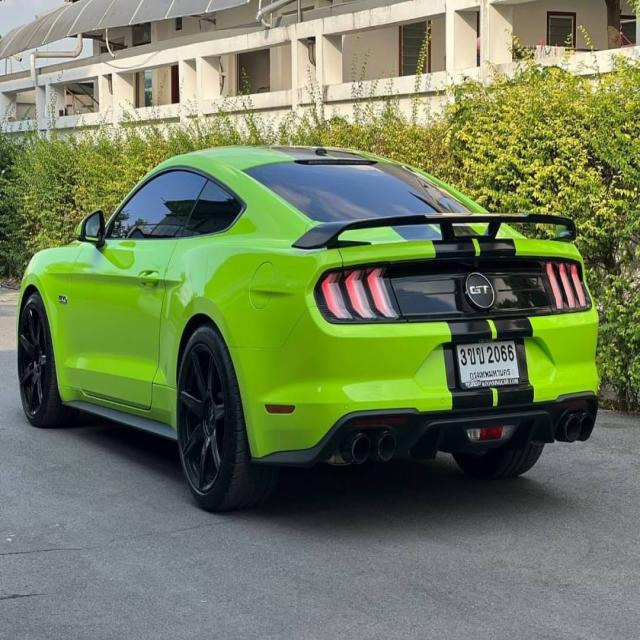license_plate: (453, 336, 524, 392)
